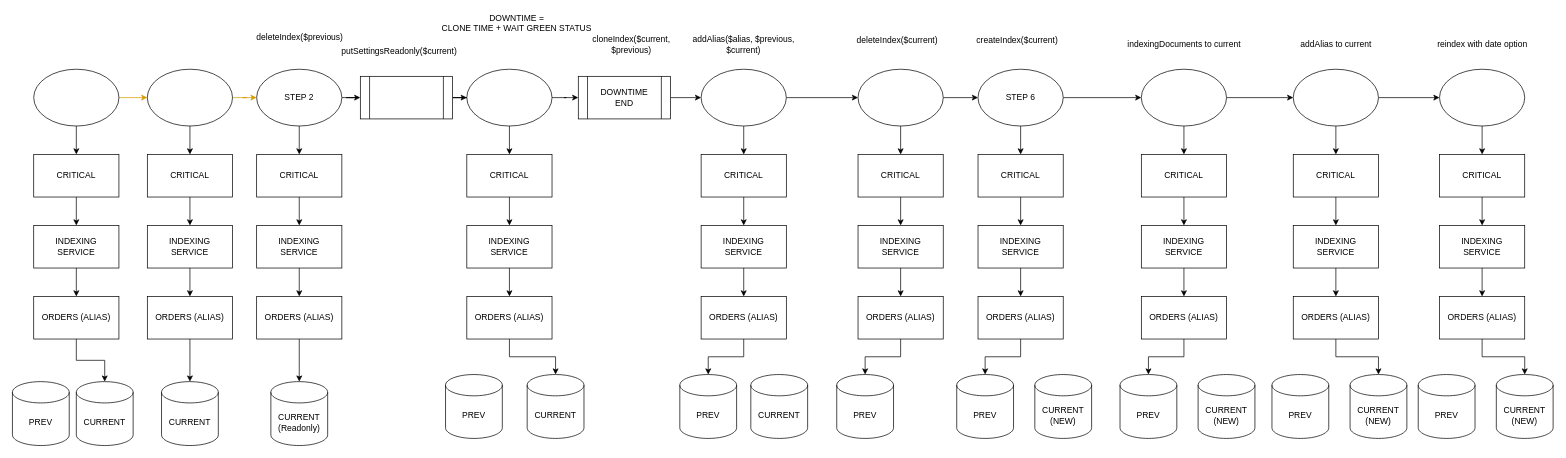
Some shapes in this 1566 by 458 pixel diagram are drawn without their labels. The centre of each missing label's shape, as x and y in pixels:
DOWNTIME START: [406,97]
NOW: [76,97]
STEP 1: [190,97]
STEP 3: [509,97]
STEP 4: [743,97]
STEP 5: [900,97]
STEP 7: [1184,97]
STEP 8: [1335,97]
STEP 9: [1482,97]
